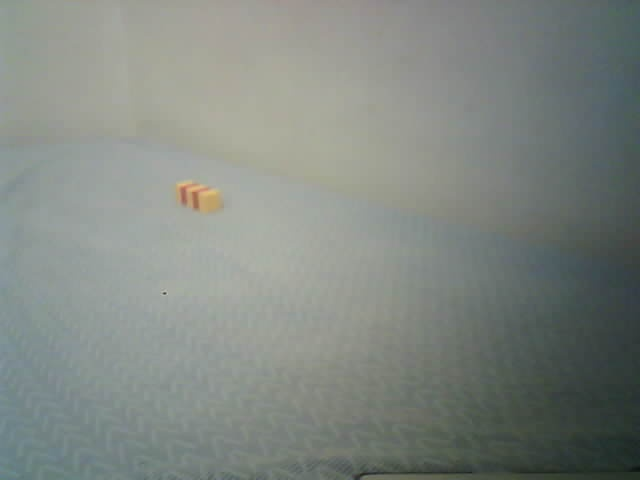lego: (173, 180, 222, 214)
